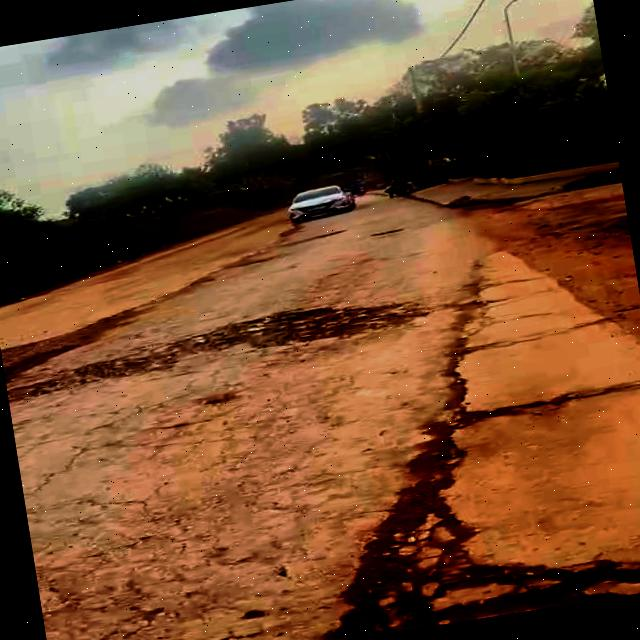pothole: (293, 458, 640, 640), (234, 290, 436, 358), (4, 340, 192, 406)
